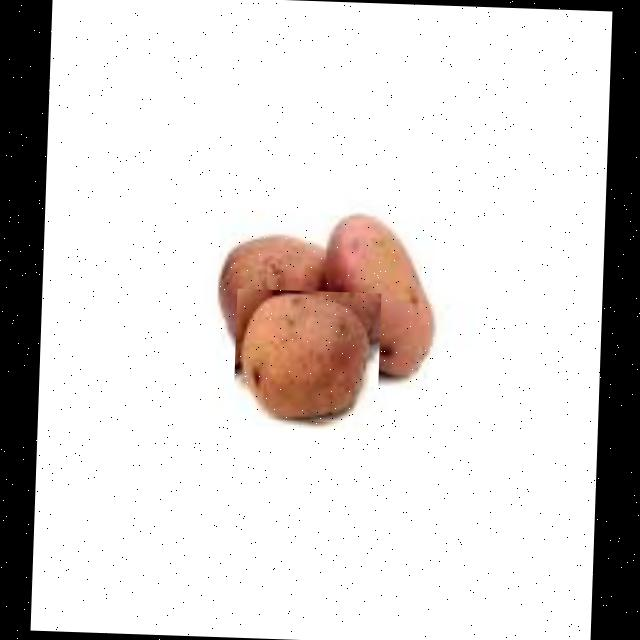Defected potato: (320, 204, 446, 384), (232, 287, 380, 422)
